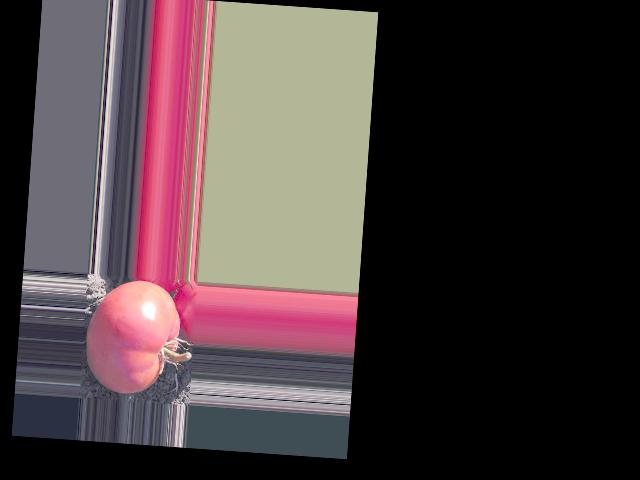tomato: (82, 277, 182, 397)
